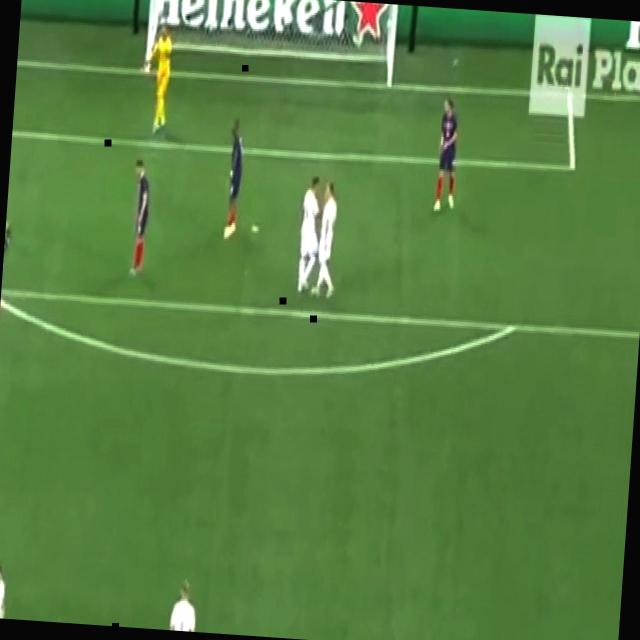player-white: (135, 16, 177, 142), (425, 94, 465, 222), (291, 170, 327, 306), (311, 179, 345, 307), (218, 110, 248, 250), (125, 153, 157, 283), (163, 572, 203, 632), (0, 215, 16, 342), (0, 556, 10, 619), (41, 617, 74, 623)
